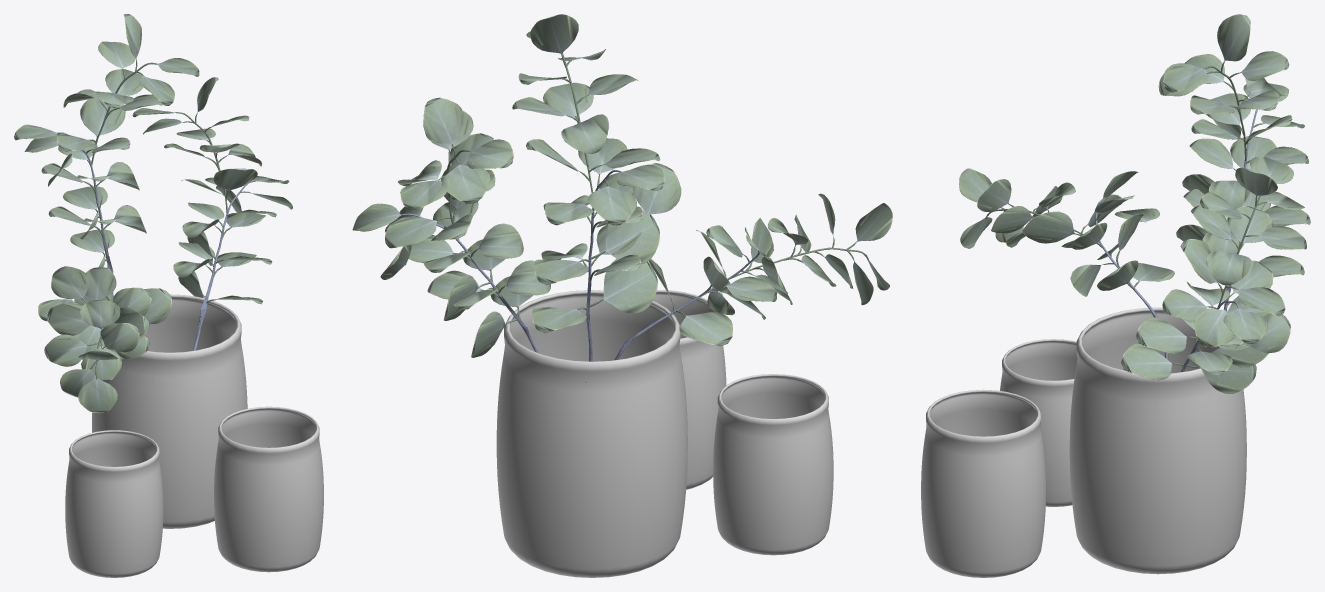
File: waze-with-flowers.glb
3 views of the same model, side by side, from view 1: azimuth 30°, elevation 25°; view 2: azimuth 150°, elevation 25°; view 3: azimuth 270°, elevation 25° (orthographic). The views are drawn at different scales.
Parts seen in each view (by area): view 1: waze-flowers; view 2: waze-flowers; view 3: waze-flowers.
Part boxes in pixels (<box>): waze-flowers: <box>14,14,323,577</box>; waze-flowers: <box>352,14,892,577</box>; waze-flowers: <box>921,14,1310,577</box>.
Bounding box in the file's own units: 45.6 × 61.98 × 41.66.
6 materials, 4 textured.
